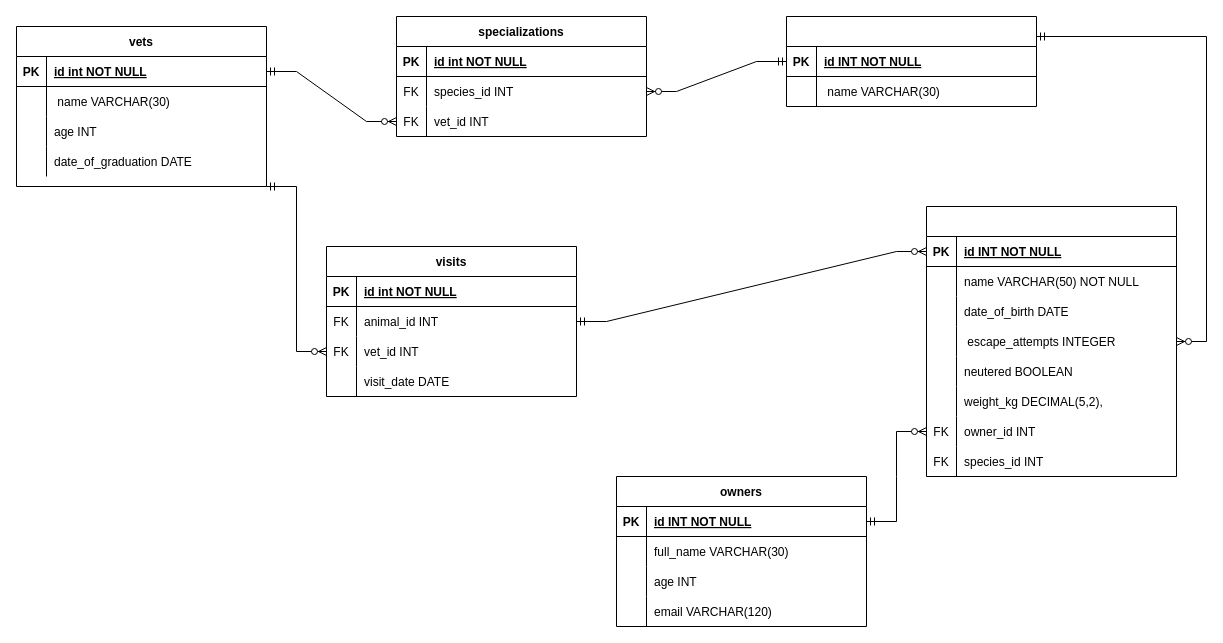
The diagram is 1223 pixels wide and 643 high, and some of its shapes have lost their labels. Here are the shapes that lost their labels. From the top down, the box of each, then its label:
(786, 16, 1036, 106): species
(926, 206, 1176, 476): animals
